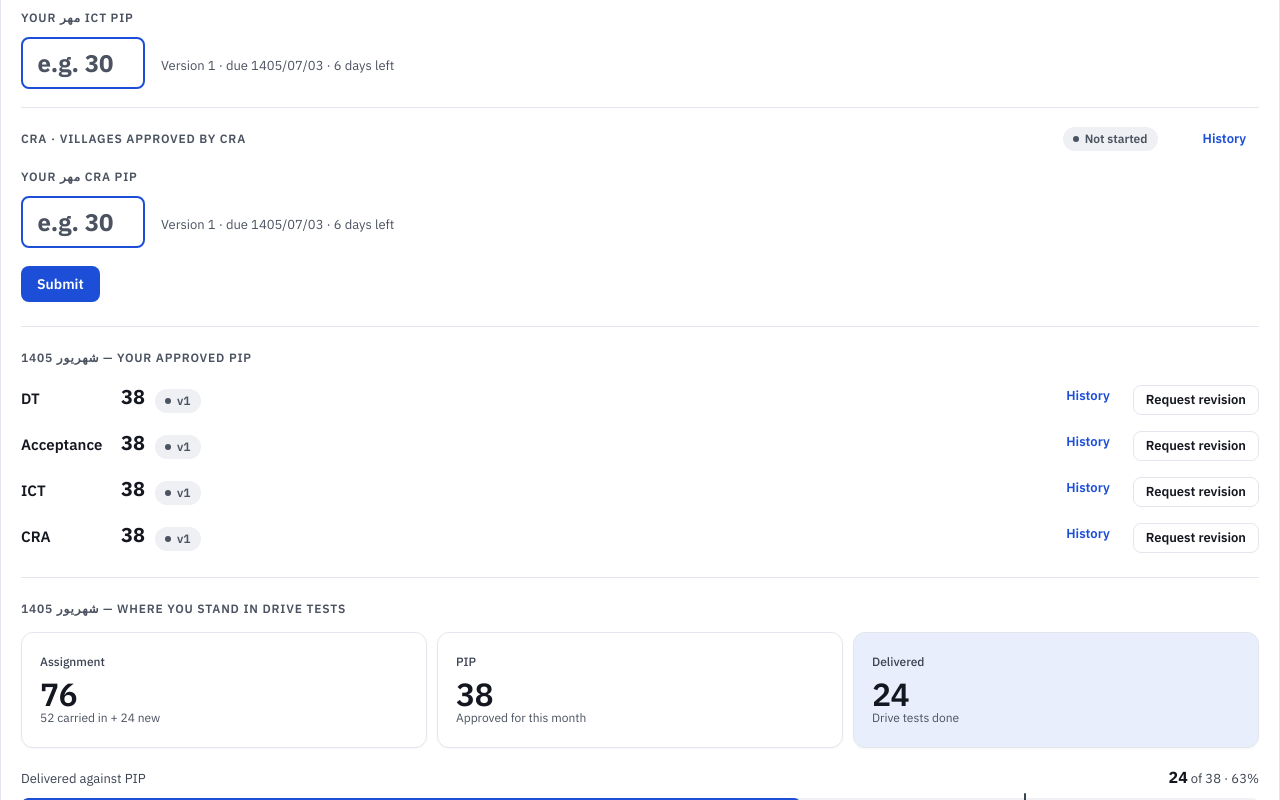
it: a contractor filing next month › opens the version history of one stream
The image size is (1280, 800).
(page scrolled)
What coordinates should you click on to do the following:
click the button with aria-label "Acceptance revision history"
I would click on:
 (1076, 442)
Its box is [1029,427,1123,457].
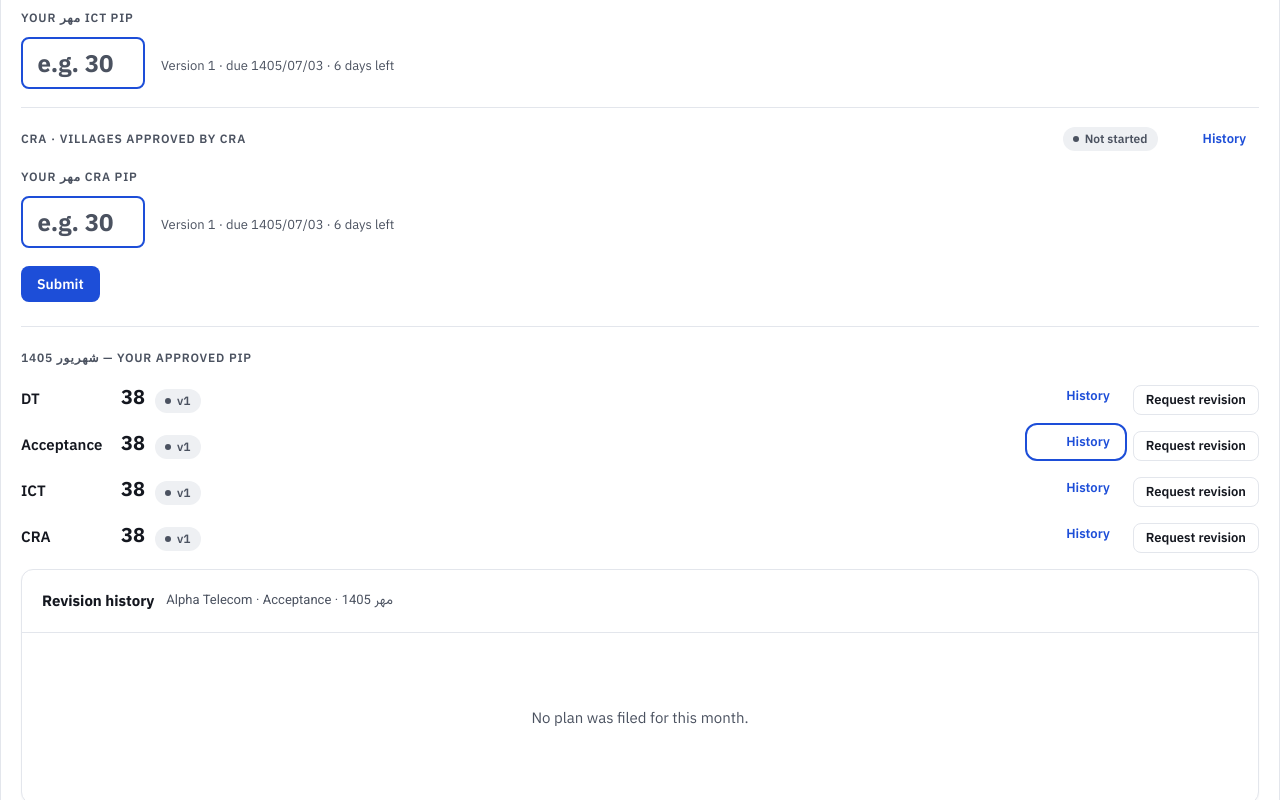
Result: the text "Revision history" is shown at [42,590,154,612]
